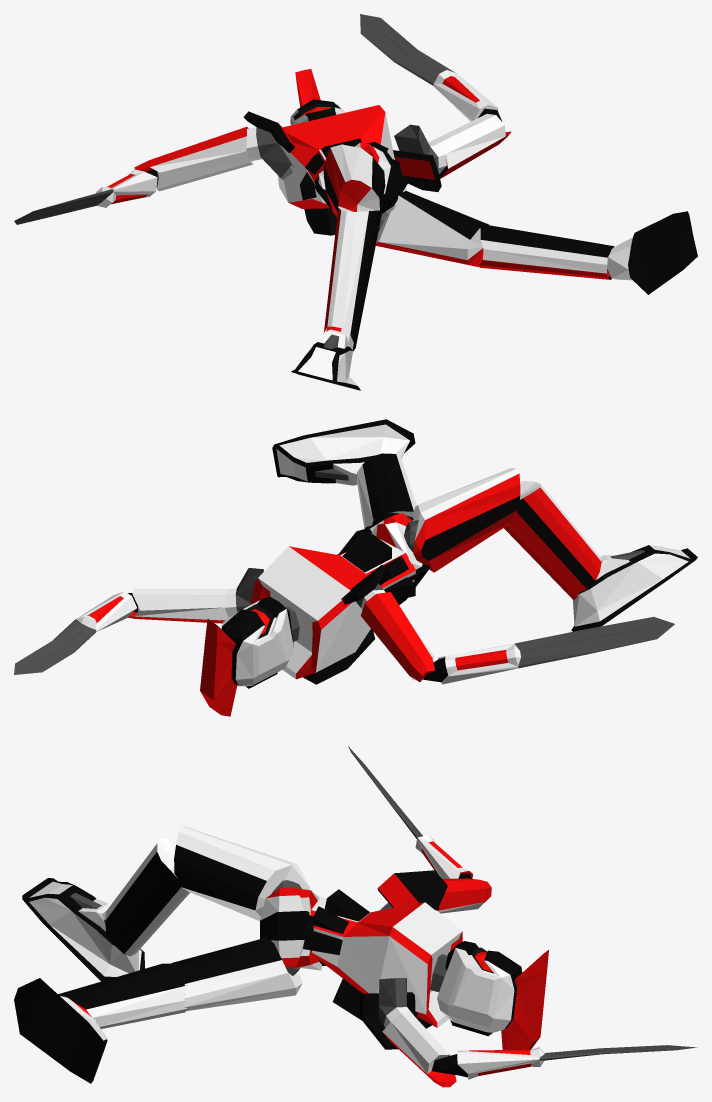
Rendered from robots_000008.obj.
The picture shows the model from 3 angles, top to bottom: view 1: azimuth 30°, elevation 25°; view 2: azimuth 150°, elevation 25°; view 3: azimuth 270°, elevation 25°; orthographic projection. The views are drawn at different scales.
Parts seen in each view (by area): view 1: R_Forearm.002_Cube.033, Chest_plate_Cube.004, R_Forearm.001_Cube.028, R_Thigh.002_Cube.027, R_Shin.002_Cube.029, R_Shin_Cube.007, R_Foot.002_Cube.035, R_Thigh_Cube.005, R_Arm.003_Cube.034, R_Foot_Cube, R_Arm.002_Cube.032, Pelvis_Cube.006 (+1 smaller); view 2: Chest_plate_Cube.004, R_Forearm.001_Cube.028, Head_gladiator_Cube.024, R_Thigh_Cube.005, R_Forearm.002_Cube.033, R_Foot.002_Cube.035, R_Shin_Cube.007, R_Foot_Cube, R_Shin.002_Cube.029, Pelvis_Cube.006, R_Arm.003_Cube.034, R_Arm.002_Cube.032; view 3: Chest_plate_Cube.004, Head_gladiator_Cube.024, R_Thigh_Cube.005, R_Thigh.002_Cube.027, R_Foot_Cube, R_Forearm.002_Cube.033, R_Foot.002_Cube.035, R_Shin_Cube.007, R_Shin.002_Cube.029, Pelvis_Cube.006, R_Forearm.001_Cube.028, R_Arm.003_Cube.034 (+1 smaller).
Boxes of the visible parts, bbox=[...] form: R_Forearm.002_Cube.033: bbox=[360, 14, 511, 178]; Chest_plate_Cube.004: bbox=[277, 105, 400, 235]; R_Forearm.001_Cube.028: bbox=[14, 126, 253, 224]; R_Thigh.002_Cube.027: bbox=[375, 191, 490, 266]; R_Shin.002_Cube.029: bbox=[479, 225, 614, 279]; R_Shin_Cube.007: bbox=[323, 206, 382, 351]; R_Foot.002_Cube.035: bbox=[607, 211, 697, 294]; R_Thigh_Cube.005: bbox=[323, 144, 385, 216]; R_Arm.003_Cube.034: bbox=[393, 124, 446, 191]; R_Foot_Cube: bbox=[291, 329, 360, 390]; R_Arm.002_Cube.032: bbox=[243, 111, 294, 179]; Pelvis_Cube.006: bbox=[312, 142, 407, 220]; Chest_plate_Cube.004: bbox=[250, 529, 416, 684]; R_Forearm.001_Cube.028: bbox=[360, 592, 674, 684]; Head_gladiator_Cube.024: bbox=[200, 596, 293, 716]; R_Thigh_Cube.005: bbox=[413, 468, 520, 572]; R_Forearm.002_Cube.033: bbox=[14, 588, 228, 674]; R_Foot.002_Cube.035: bbox=[272, 419, 415, 485]; R_Shin_Cube.007: bbox=[504, 481, 601, 599]; R_Foot_Cube: bbox=[571, 545, 697, 631]; R_Shin.002_Cube.029: bbox=[357, 453, 416, 528]; Pelvis_Cube.006: bbox=[364, 513, 429, 604]; R_Arm.003_Cube.034: bbox=[224, 568, 263, 617]; R_Arm.002_Cube.032: bbox=[341, 564, 391, 609]; Chest_plate_Cube.004: bbox=[303, 889, 462, 1028]; Head_gladiator_Cube.024: bbox=[437, 941, 548, 1049]; R_Thigh_Cube.005: bbox=[174, 826, 309, 921]; R_Thigh.002_Cube.027: bbox=[171, 937, 302, 1010]; R_Foot_Cube: bbox=[22, 878, 144, 981]; R_Forearm.002_Cube.033: bbox=[382, 1012, 697, 1087]; R_Foot.002_Cube.035: bbox=[14, 978, 107, 1083]; R_Shin_Cube.007: bbox=[105, 838, 189, 956]; R_Shin.002_Cube.029: bbox=[58, 963, 186, 1028]; Pelvis_Cube.006: bbox=[260, 887, 326, 970]; R_Forearm.001_Cube.028: bbox=[348, 746, 491, 913]; R_Arm.003_Cube.034: bbox=[359, 978, 417, 1049].
Size of the model in its own units: 3.52 by 1.09 by 3.84.
